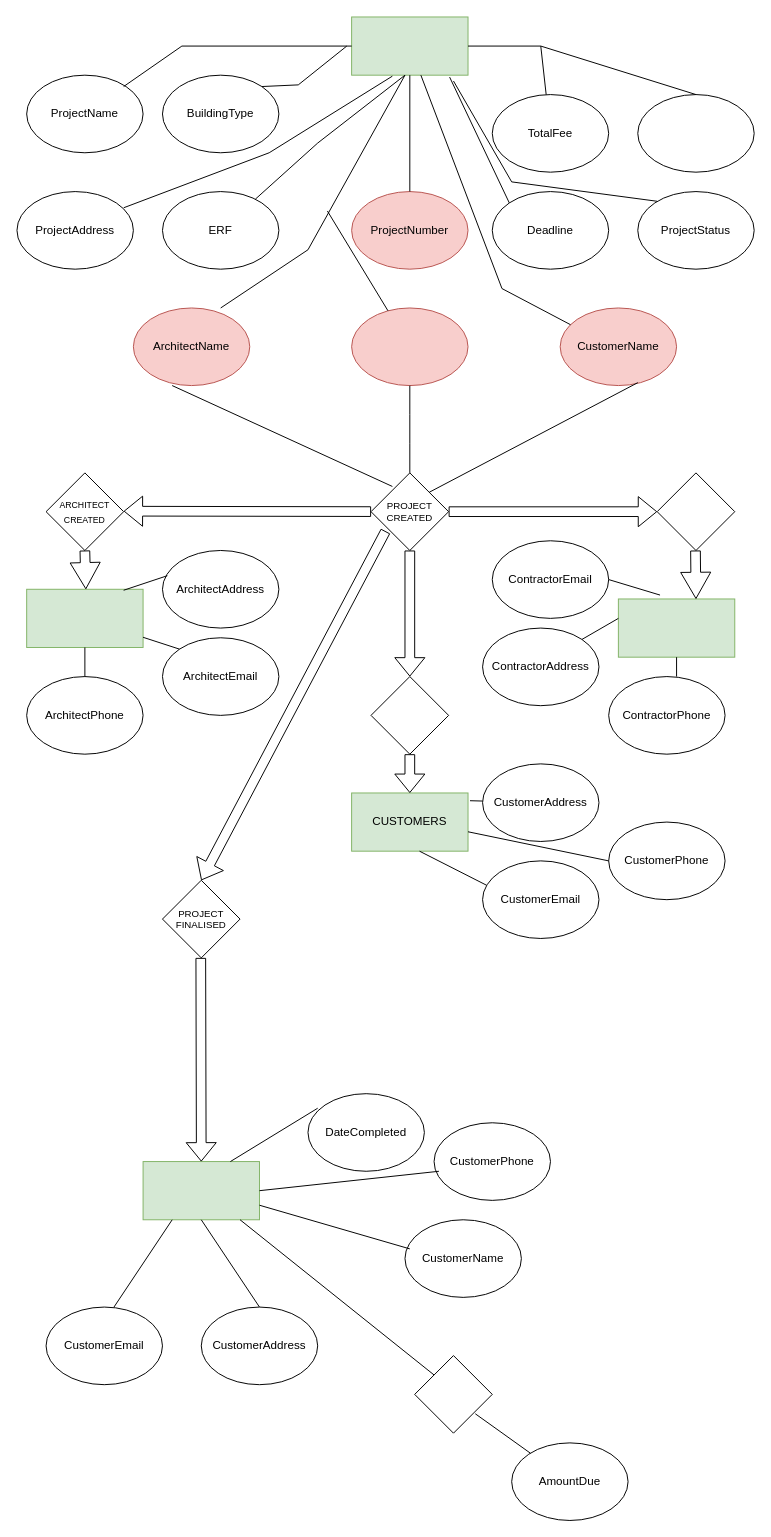
Image size: 771x1537. Some labels were removed from this diagram. Here are the shapes that lost their labels. From the top down, the box of each, then its label:
(351, 16, 468, 75): PROJECTS
(637, 94, 754, 172): AmountPaid
(351, 307, 468, 386): ContractorName
(656, 472, 735, 550): CONTRACTOR CREATED
(26, 588, 143, 647): ARCHITECTS
(617, 598, 735, 657): CONTRACTORS
(370, 676, 449, 754): CUSTOMER CREATED
(142, 1161, 259, 1220): INVOICES
(414, 1355, 492, 1433): AMOUNT DUE CALCULATED
